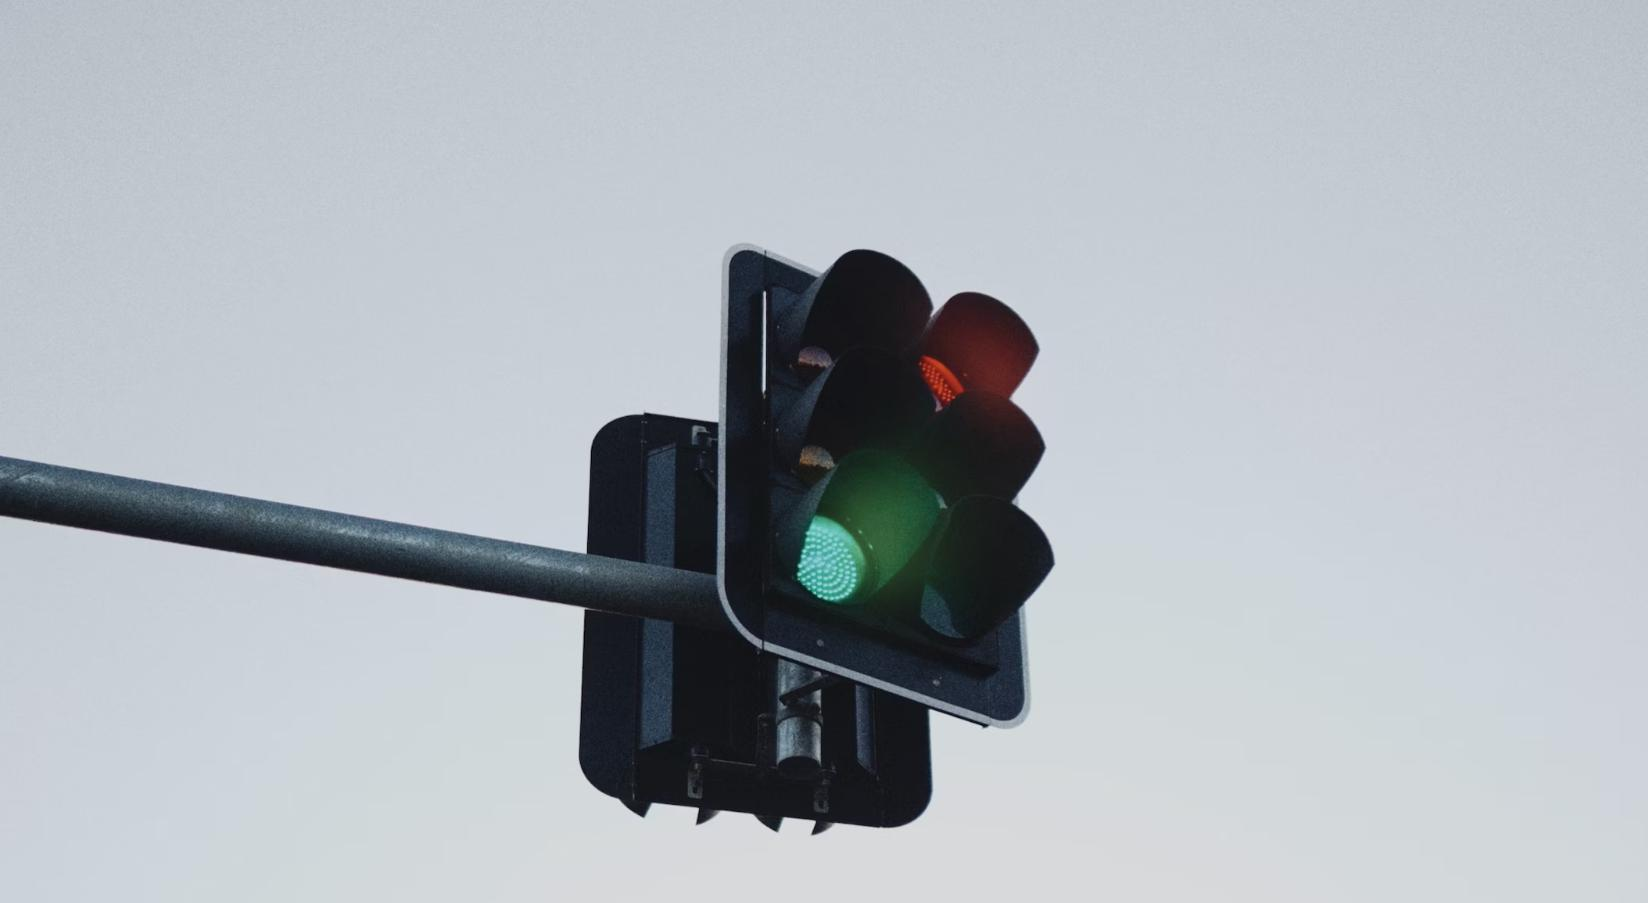green_light: (717, 241, 939, 654)
red_light: (915, 290, 1055, 726)
